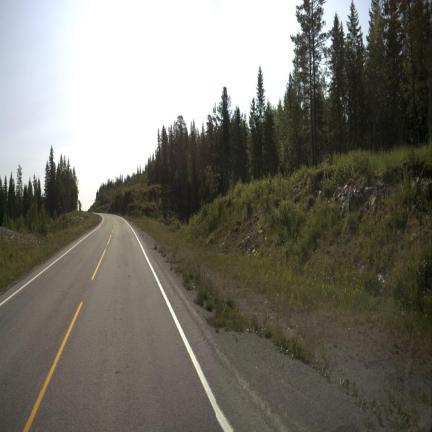Road: (0, 215, 226, 431)
